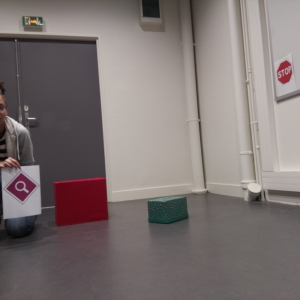search: (4, 171, 39, 203)
stop: (277, 61, 292, 83)
